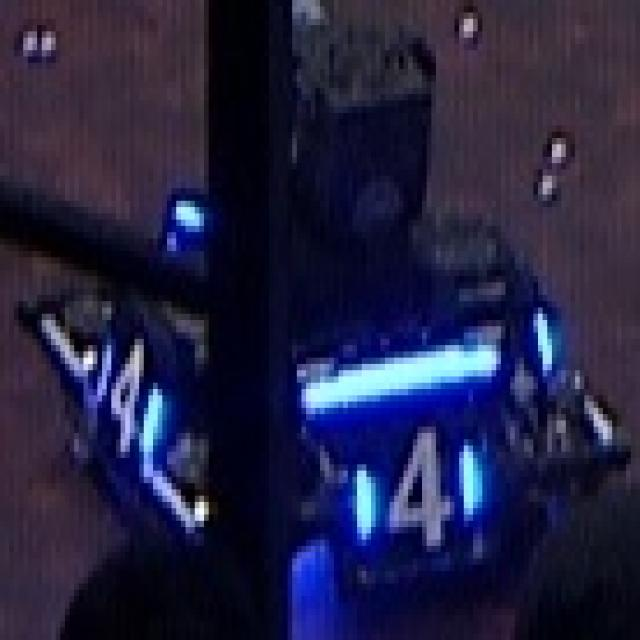B4: (348, 426, 487, 558), (93, 333, 167, 458)
